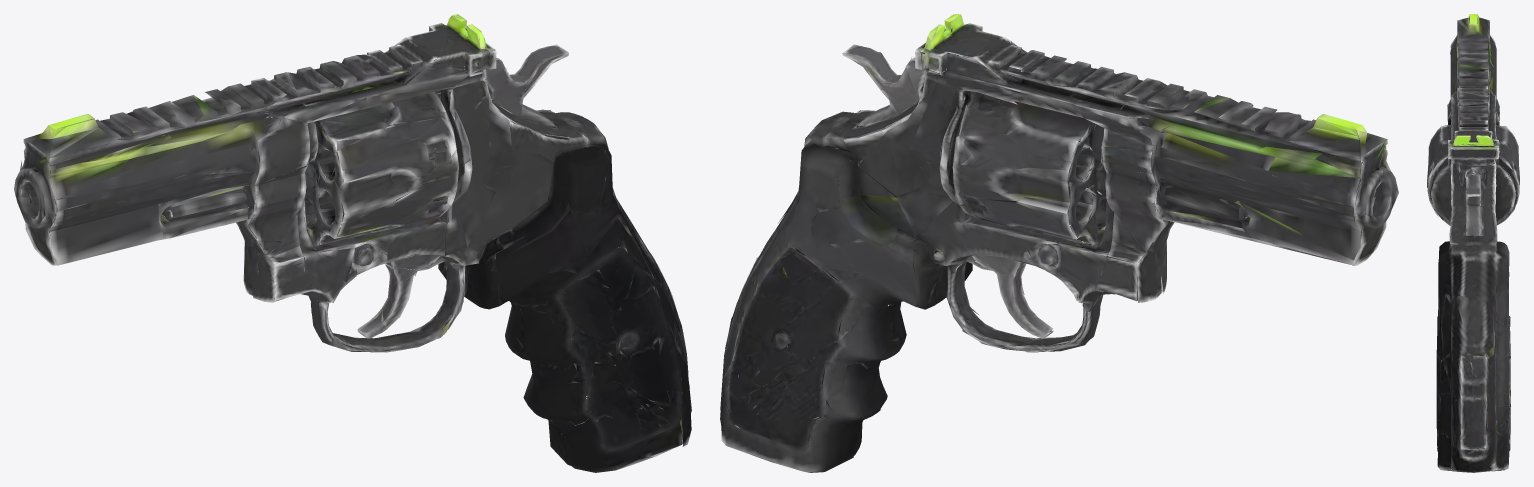
File: gun_revolver_lo.glb
3 views of the same model, side by side, from view 1: azimuth 30°, elevation 25°; view 2: azimuth 150°, elevation 25°; view 3: azimuth 270°, elevation 25° (orthographic). The views are drawn at different scales.
Parts seen in each view (by area): view 1: Mesh_0; view 2: Mesh_0; view 3: Mesh_0.
Boxes of the visible parts, bbox=[...] form: Mesh_0: bbox=[14, 14, 691, 472]; Mesh_0: bbox=[720, 14, 1398, 472]; Mesh_0: bbox=[1427, 14, 1519, 472].
Size of the model in its own units: 1.9 by 1.29 by 0.3829.
1 material, 1 textured.
